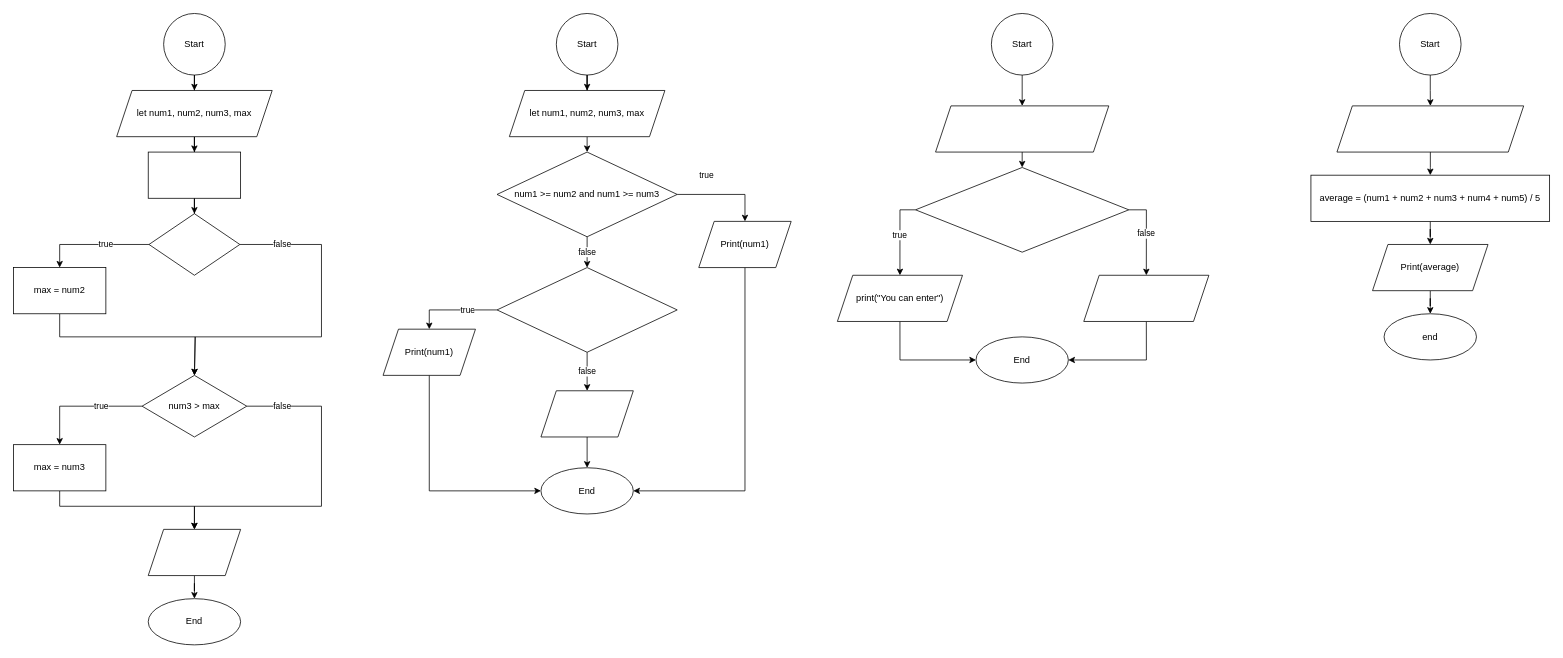
The diagram is 1563 pixels wide and 658 high, and some of its shapes have lost their labels. Each missing label, with the centre of its shape:
let num1, num2, num3, num4, num5, average: pixel 1430 128
let vaccineDose1, vaccineDose2, bodyTemperature: pixel 1022 128
max = num1: pixel 194 174
num2 > max: pixel 194 244
num2 >= num1 and num2 >= num3: pixel 586 309
print("You can not enter"): pixel 1146 298
Print(max): pixel 194 552
Print(num3): pixel 586 413
vaccineDose1 and vaccineDose2 and bodyTemperature <= 36: pixel 1022 209
